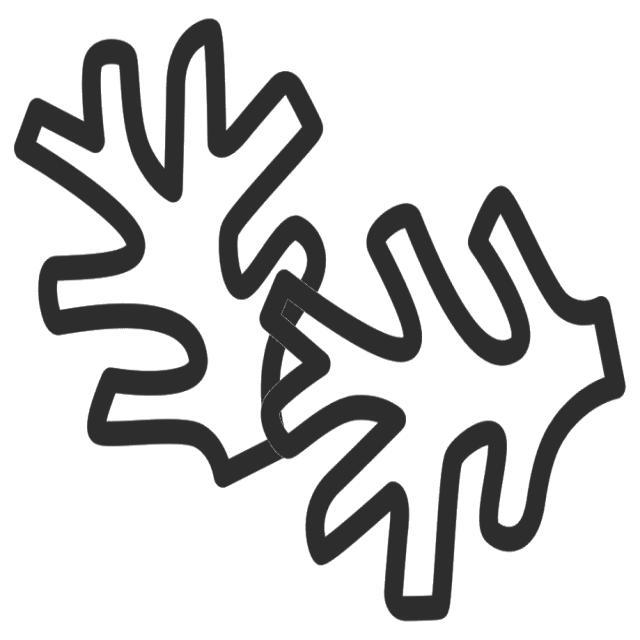coral: (255, 181, 635, 629), (10, 9, 340, 504)
